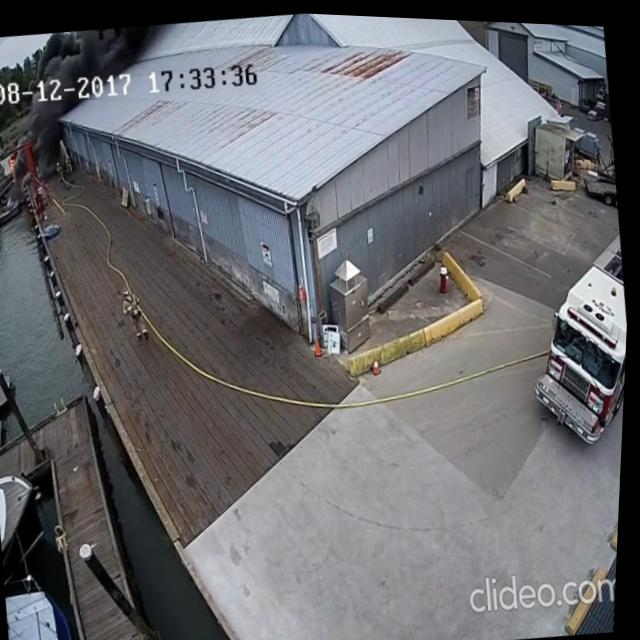fire: (6, 153, 21, 176)
